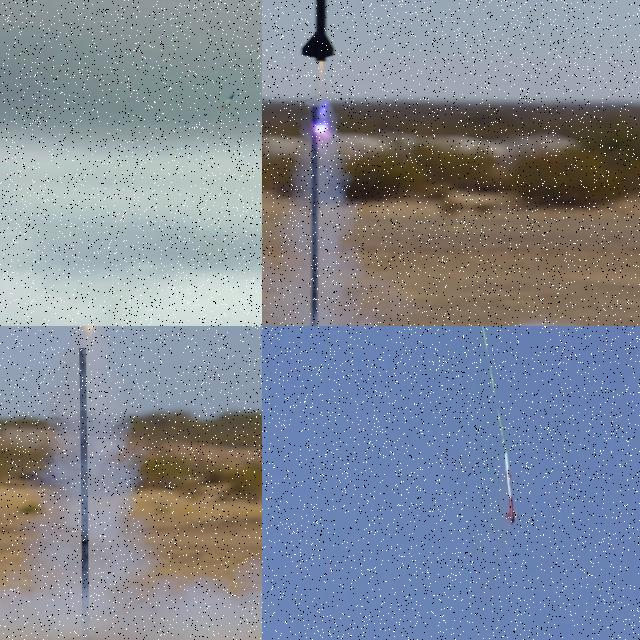Rocket: (300, 0, 336, 64), (504, 454, 519, 524), (218, 93, 236, 111)
